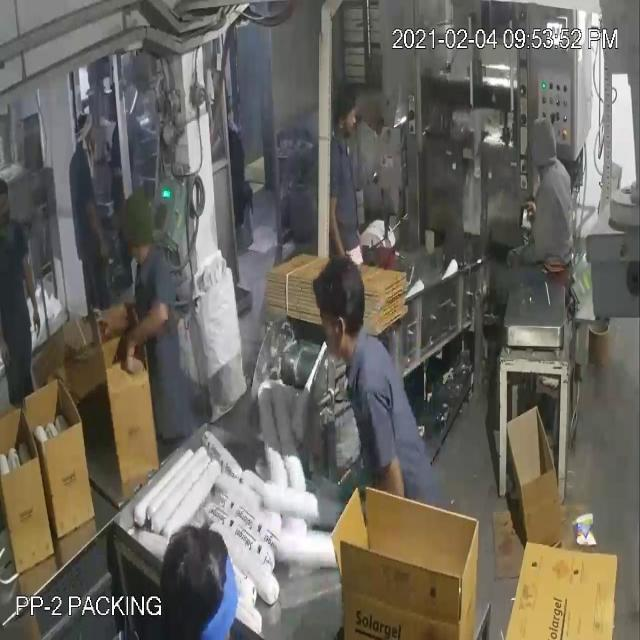No_Gloves: (24, 84, 331, 340)
